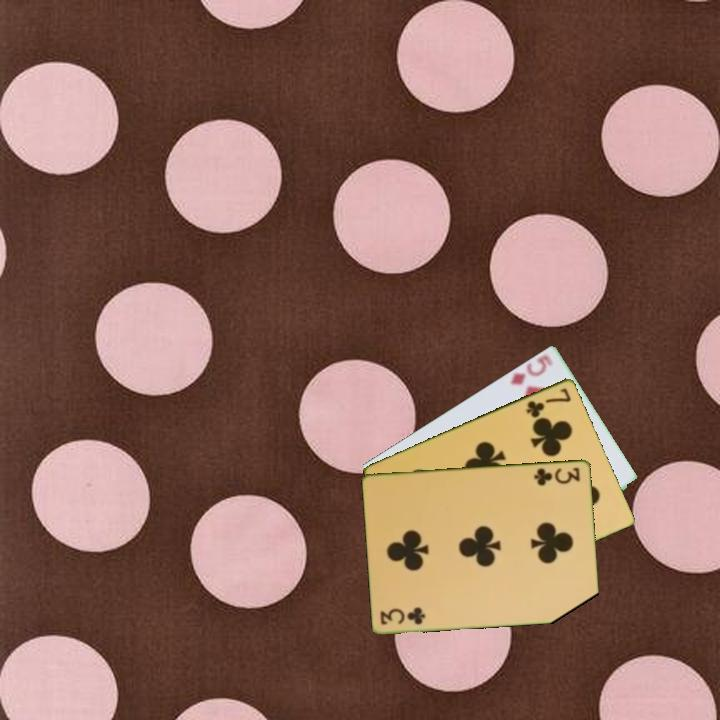3c: (531, 464, 583, 488), (377, 605, 428, 627)
5d: (506, 351, 556, 388)
7c: (523, 384, 574, 420)
